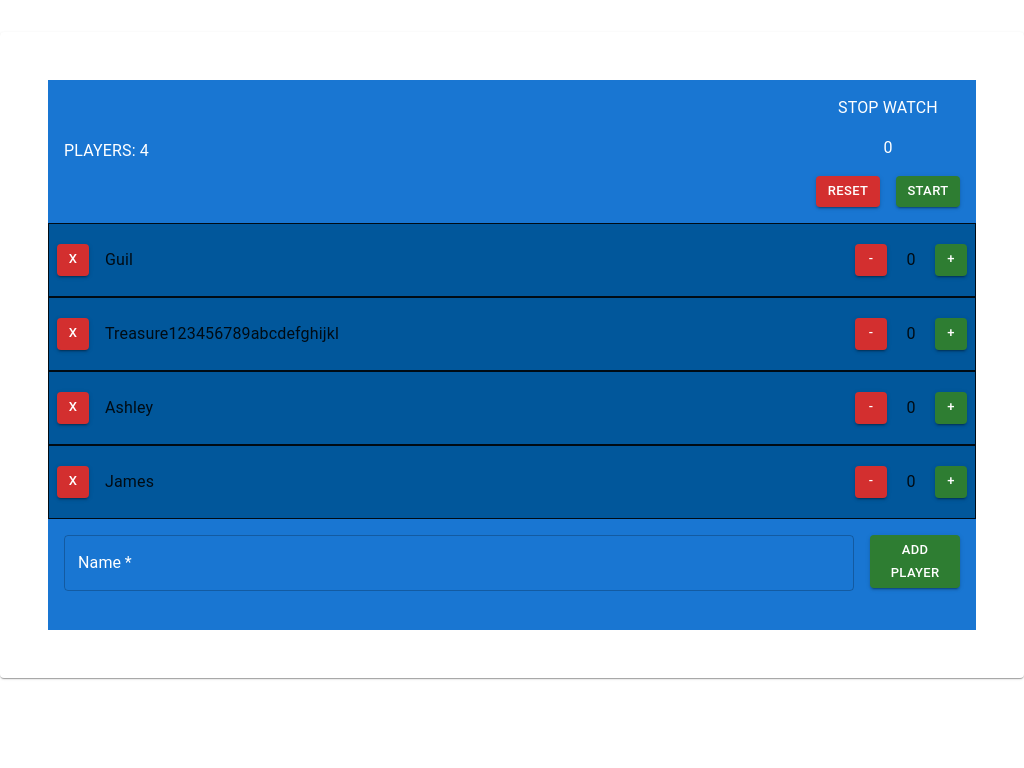
Test: test Scoreboard › renders a new player row with the correct name after clicking add player
The width and height of the screenshot is (1024, 768).
Type "Jim" into the field. click: (459, 563)
box: [64, 535, 854, 591]
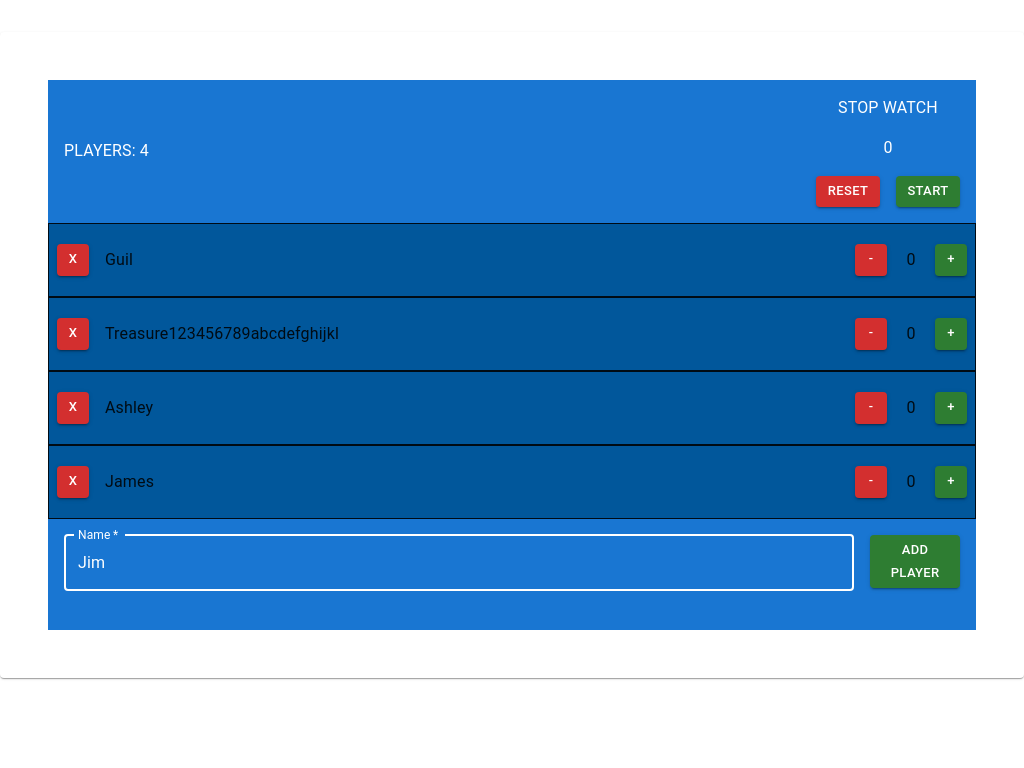
Click the button "add player". click: click(915, 562)
box: [870, 535, 960, 588]
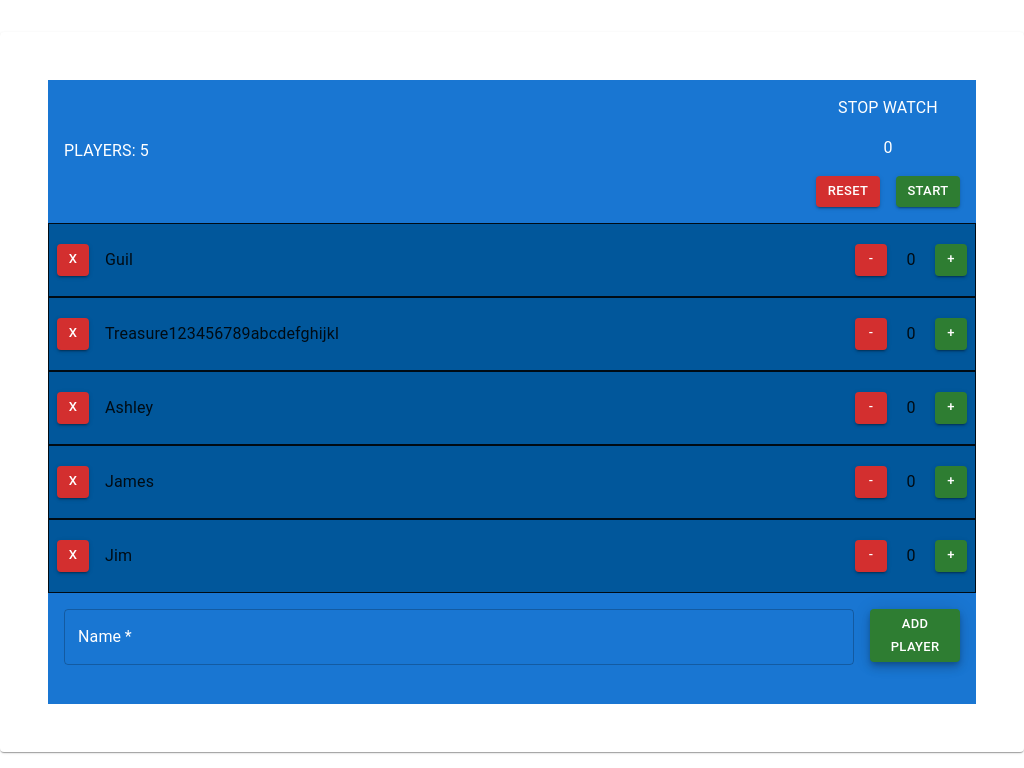
Expected: the number of buttons "X" is 5, [57, 244, 89, 276]; [57, 318, 89, 350]; [57, 392, 89, 424]; [57, 466, 89, 498]; [57, 540, 89, 572]
Expected: the text "Jim" is shown, [105, 544, 132, 568]
Expected: the number of buttons "-" is 5, [855, 244, 887, 276]; [855, 318, 887, 350]; [855, 392, 887, 424]; [855, 466, 887, 498]; [855, 540, 887, 572]
